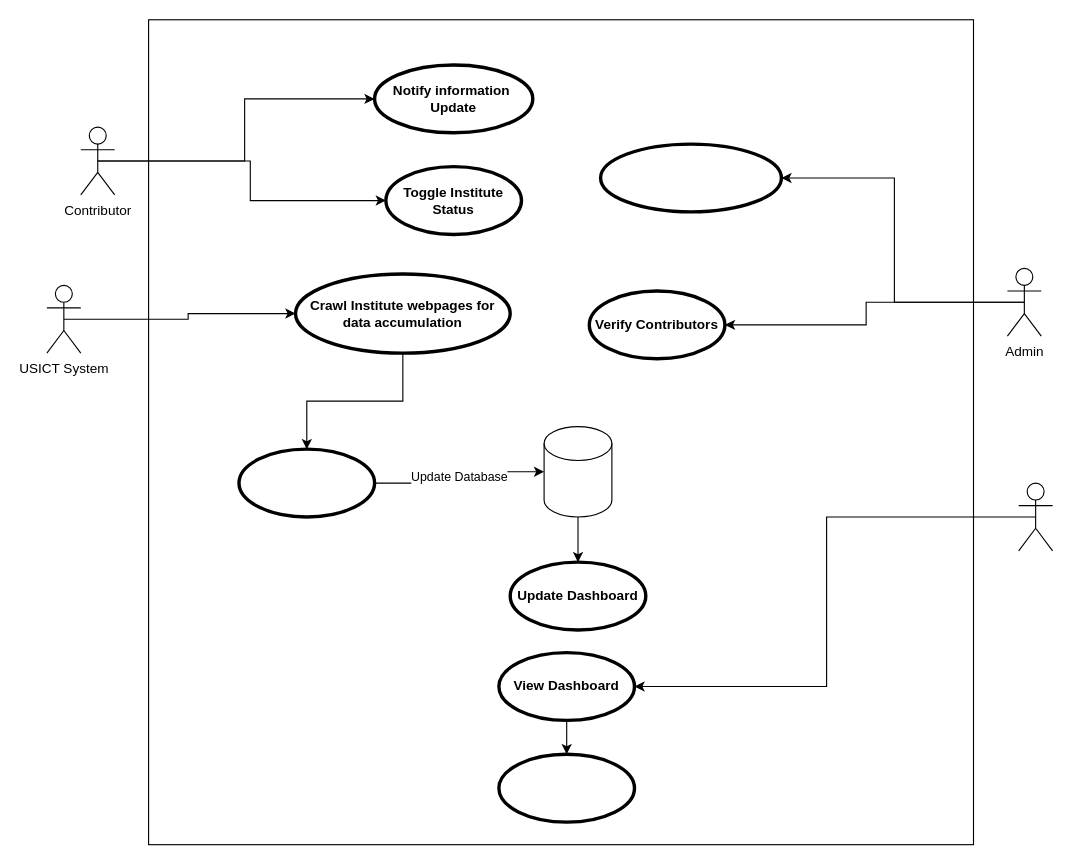
Image size: 1074x864. Some labels were removed from this diagram. Each missing label, with the centre of its shape:
"Calculate Additional Statistics" belongs at (x=306, y=482).
"Export Dashboard Data" belongs at (x=566, y=787).
"Manage and Administrate USCIT" belongs at (x=690, y=177).
"USICT Database" belongs at (x=577, y=471).
"Visitor" belongs at (x=1035, y=516).
